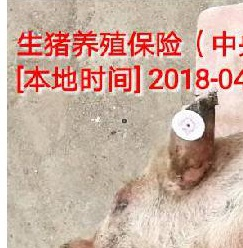text: (161, 96, 214, 150)
